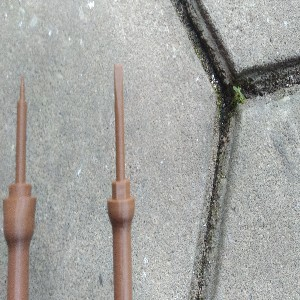obeng: (107, 63, 136, 300)
solder: (1, 78, 37, 300)
